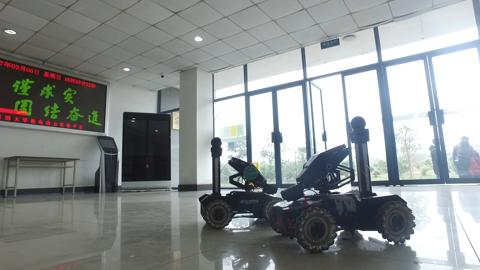chariot: (270, 114, 415, 261), (196, 133, 290, 235)
